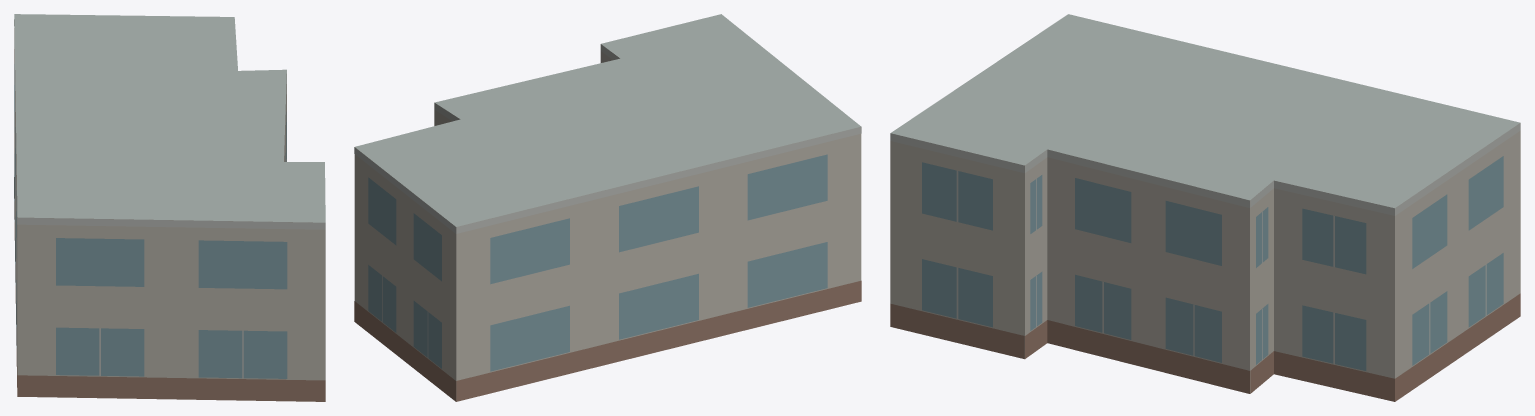
File: survey-upis-32982740.glb
The picture shows the model from 3 angles, left to right: view 1: azimuth 30°, elevation 25°; view 2: azimuth 150°, elevation 25°; view 3: azimuth 270°, elevation 25°; orthographic projection. The views are drawn at different scales.
Parts seen in each view (by area): view 1: survey-upis-32982740.tmp; view 2: survey-upis-32982740.tmp; view 3: survey-upis-32982740.tmp.
Boxes of the visible parts, box(x1,y1,x2,y2) form: survey-upis-32982740.tmp: box(14, 14, 325, 401); survey-upis-32982740.tmp: box(354, 14, 861, 401); survey-upis-32982740.tmp: box(890, 14, 1520, 401).
Size of the model in its own units: 13.13 by 6.1 by 18.
